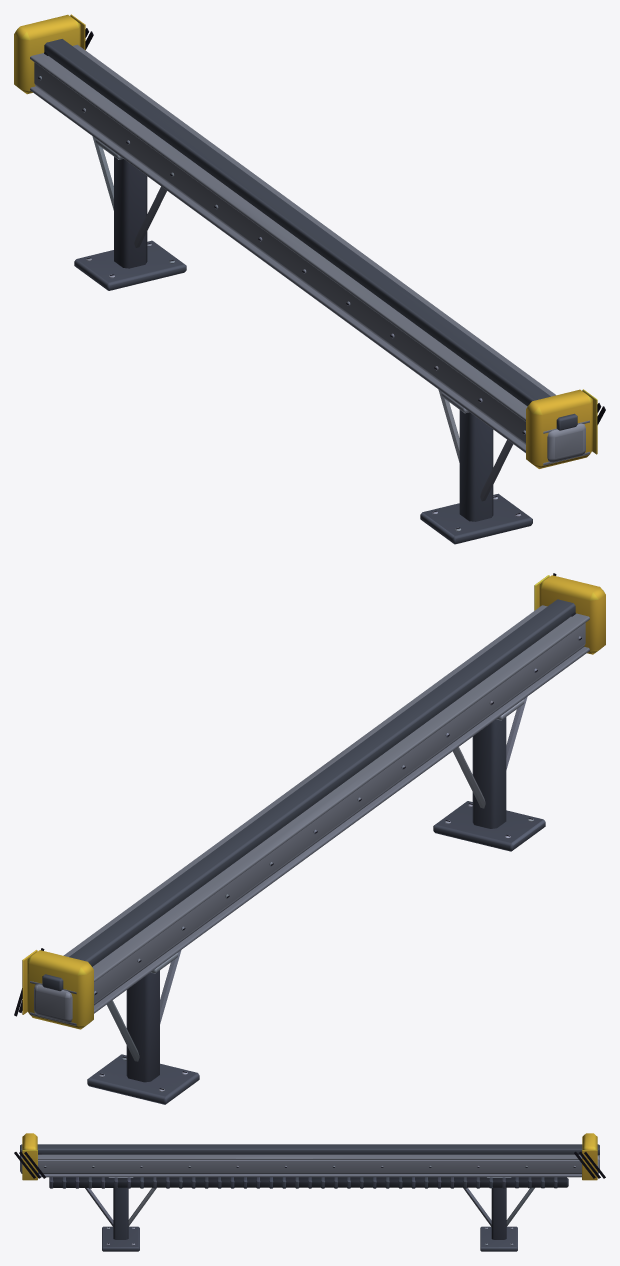
Rendered from SM_Station_SharkRig_Rail.fbx.
The picture shows the model from 3 angles, top to bottom: view 1: azimuth 30°, elevation 25°; view 2: azimuth 150°, elevation 25°; view 3: azimuth 270°, elevation 25°; orthographic projection. The views are drawn at different scales.
Parts seen in each view (by area): view 1: SM_Station_SharkRig_Rail; view 2: SM_Station_SharkRig_Rail; view 3: SM_Station_SharkRig_Rail.
Part boxes in pixels (x1,y1,x2,y2): SM_Station_SharkRig_Rail: [14, 14, 605, 544]; SM_Station_SharkRig_Rail: [14, 573, 605, 1104]; SM_Station_SharkRig_Rail: [14, 1133, 605, 1251].
Bounding box in the file's own units: 40.13 × 89.09 × 470.
